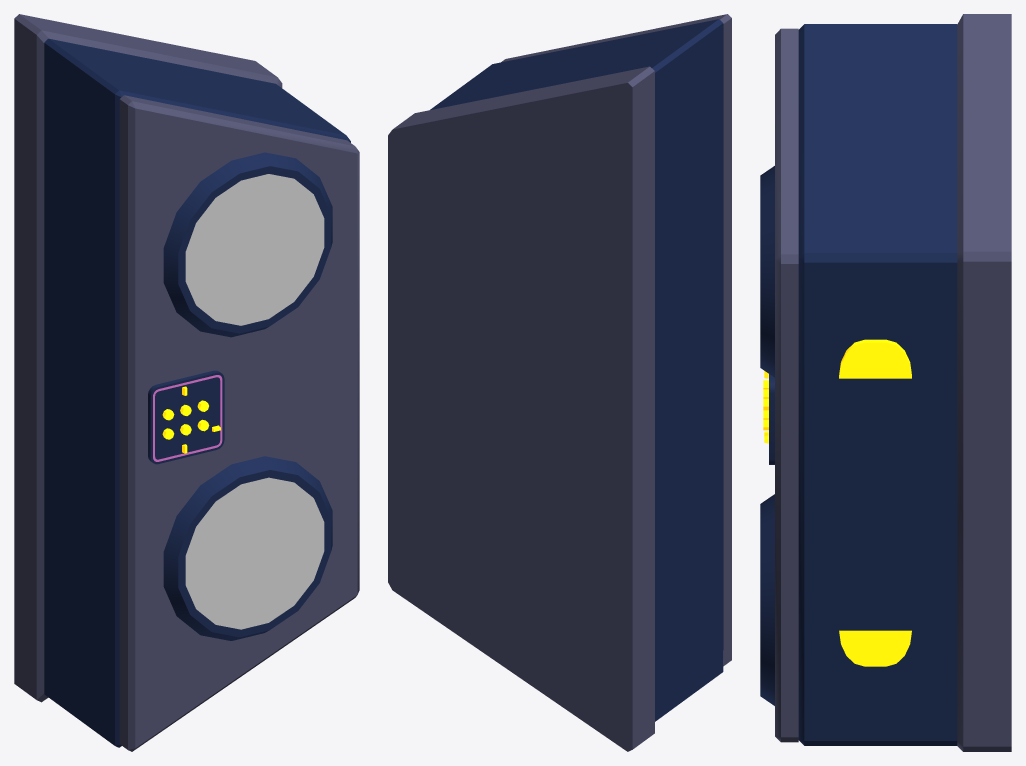
The model's file is DjBox.fbx.
3 renders of one model, left to right at view 1: azimuth 30°, elevation 25°; view 2: azimuth 150°, elevation 25°; view 3: azimuth 270°, elevation 25°, orthographic. The views are drawn at different scales.
Parts seen in each view (by area): view 1: dj_l; view 2: dj_l; view 3: dj_l.
Part boxes in pixels (left/top/right/bottom): dj_l: left=14, top=14, right=359, bottom=751; dj_l: left=388, top=14, right=731, bottom=751; dj_l: left=760, top=14, right=1011, bottom=751.
Bounding box in the file's own units: 81.99 × 214 × 66.95.
